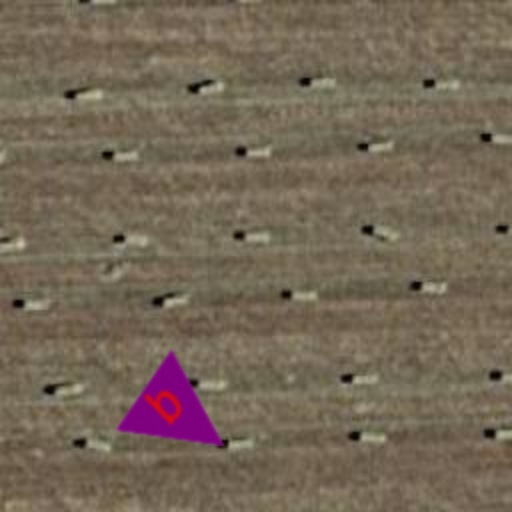triangle: (114, 348, 254, 488)
